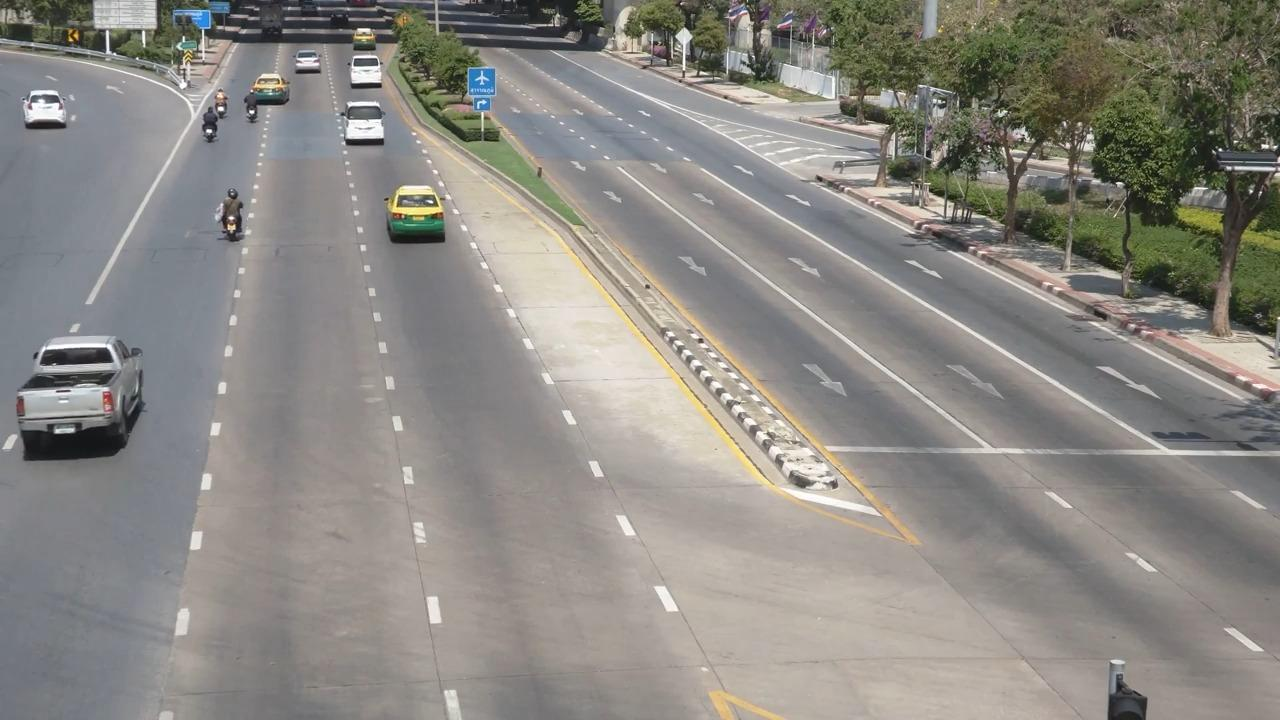CAR: (7, 301, 162, 469), (376, 178, 467, 258), (14, 77, 79, 159), (336, 96, 395, 158), (341, 50, 393, 97), (284, 44, 339, 84), (247, 69, 296, 113), (337, 22, 388, 58)
MOTOR: (200, 184, 259, 253), (235, 88, 272, 135), (191, 100, 225, 148)
